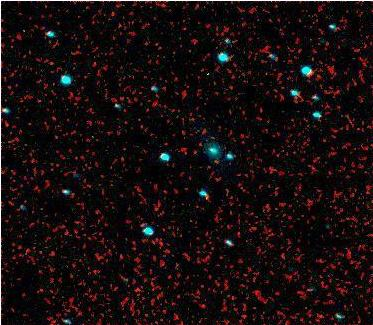star: (77, 123, 107, 153)
